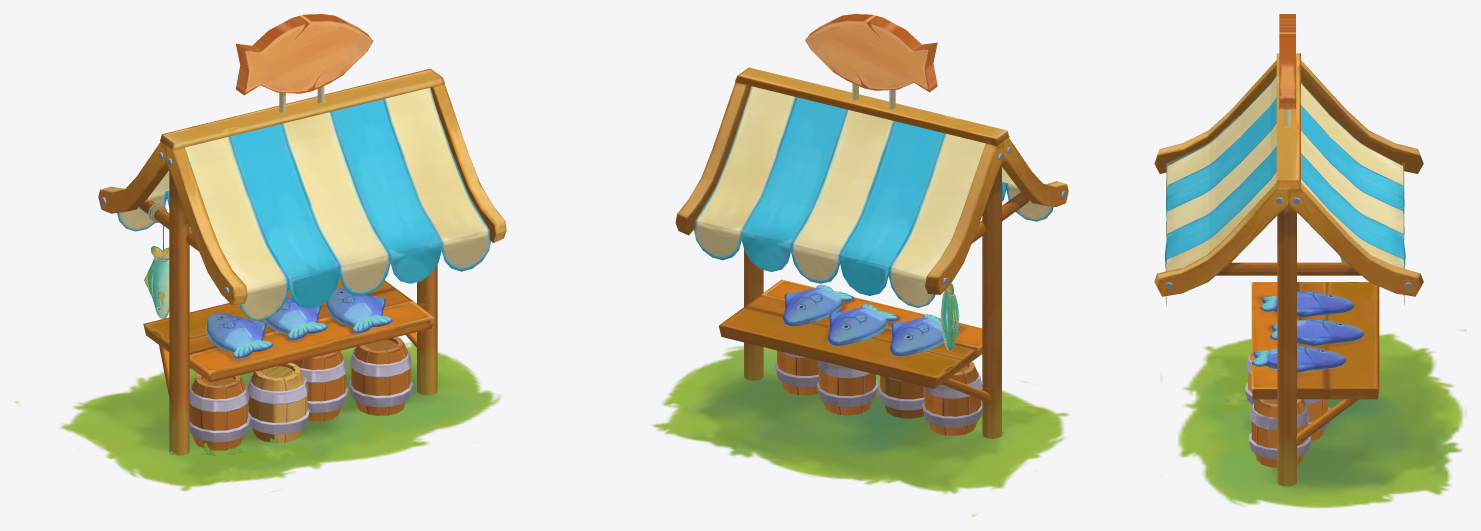
The model's file is bazaar-fish-stall.glb.
The picture shows the model from 3 angles, left to right: view 1: azimuth 30°, elevation 25°; view 2: azimuth 150°, elevation 25°; view 3: azimuth 270°, elevation 25°; orthographic projection. The views are drawn at different scales.
Parts seen in each view (by area): view 1: stringbundle_low_lambert1_0; view 2: stringbundle_low_lambert1_0; view 3: stringbundle_low_lambert1_0.
Boxes of the visible parts, left/top/right/bottom form: stringbundle_low_lambert1_0: left=15, top=14, right=506, bottom=491; stringbundle_low_lambert1_0: left=651, top=14, right=1069, bottom=516; stringbundle_low_lambert1_0: left=1154, top=14, right=1466, bottom=507.
Size of the model in its own units: 1.34 by 1.34 by 0.9472.
1 material, 1 textured.
